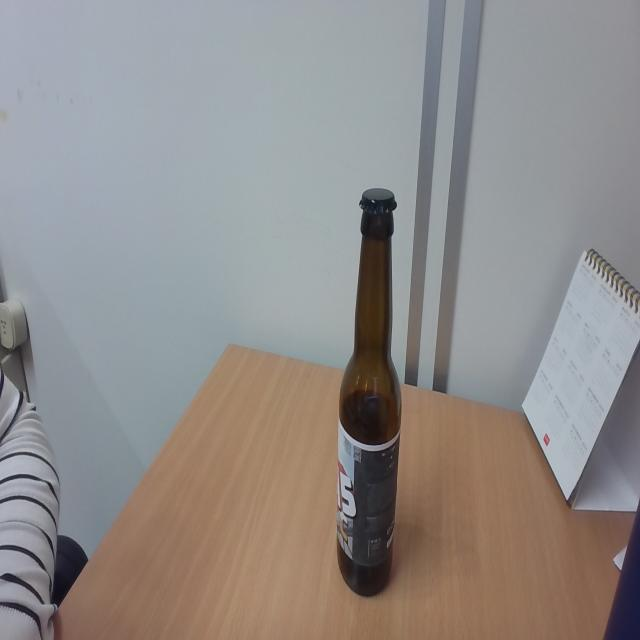Bottle: (336, 184, 402, 598)
Cap: (359, 186, 402, 218)
Label: (338, 426, 398, 563)
